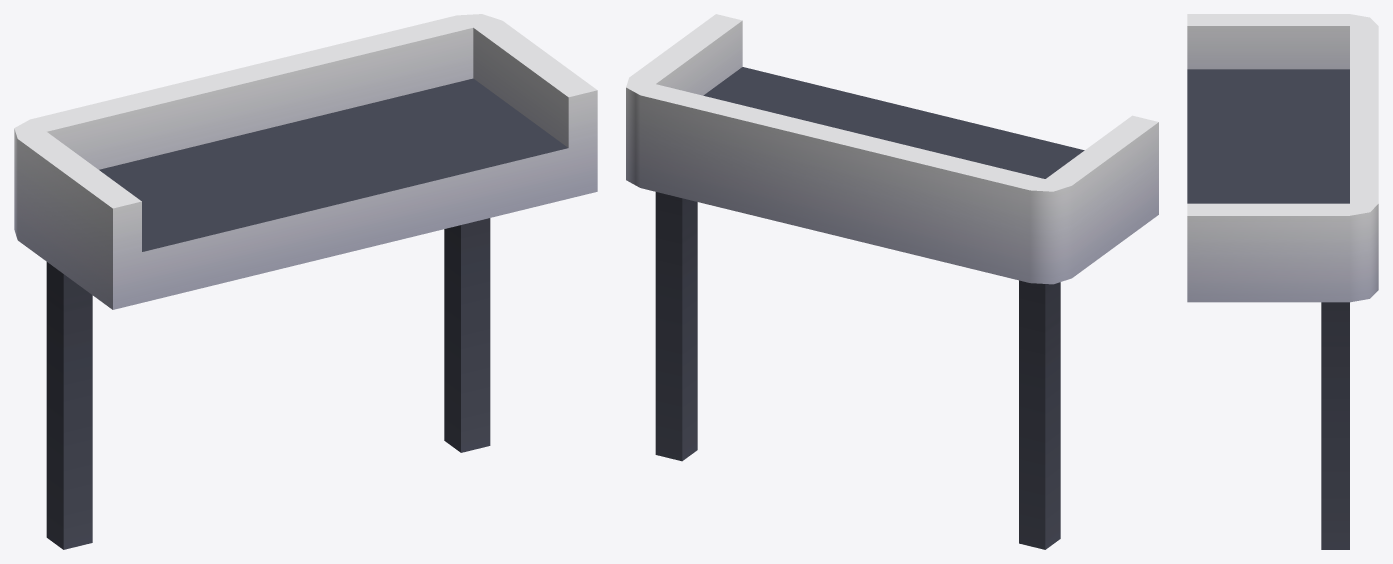
3 renders of one model, left to right at view 1: azimuth 30°, elevation 25°; view 2: azimuth 150°, elevation 25°; view 3: azimuth 270°, elevation 25°, orthographic. The views are drawn at different scales.
Parts seen in each view (by area): view 1: detail-overhang; view 2: detail-overhang; view 3: detail-overhang.
Part boxes in pixels (left/top/right/bottom): detail-overhang: left=14, top=14, right=597, bottom=549; detail-overhang: left=626, top=14, right=1158, bottom=549; detail-overhang: left=1187, top=14, right=1378, bottom=549.
Size of the model in its own units: 4.64 by 3.71 by 1.86.
Materials: 1 (1 with a texture image).
